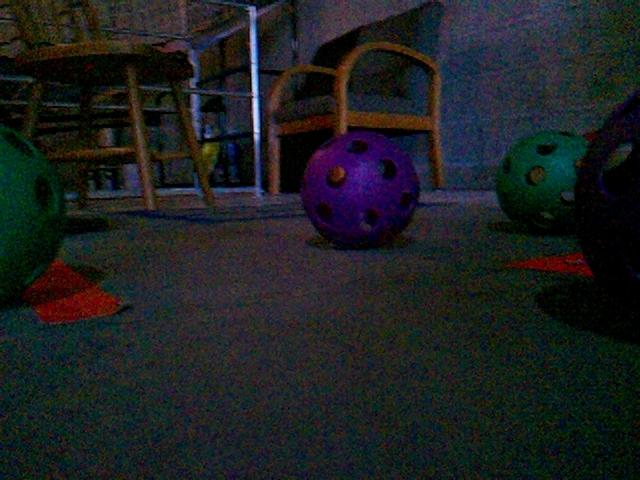Green: (0, 125, 66, 308), (494, 130, 590, 230)
Purple: (576, 87, 640, 327), (299, 131, 421, 247)
